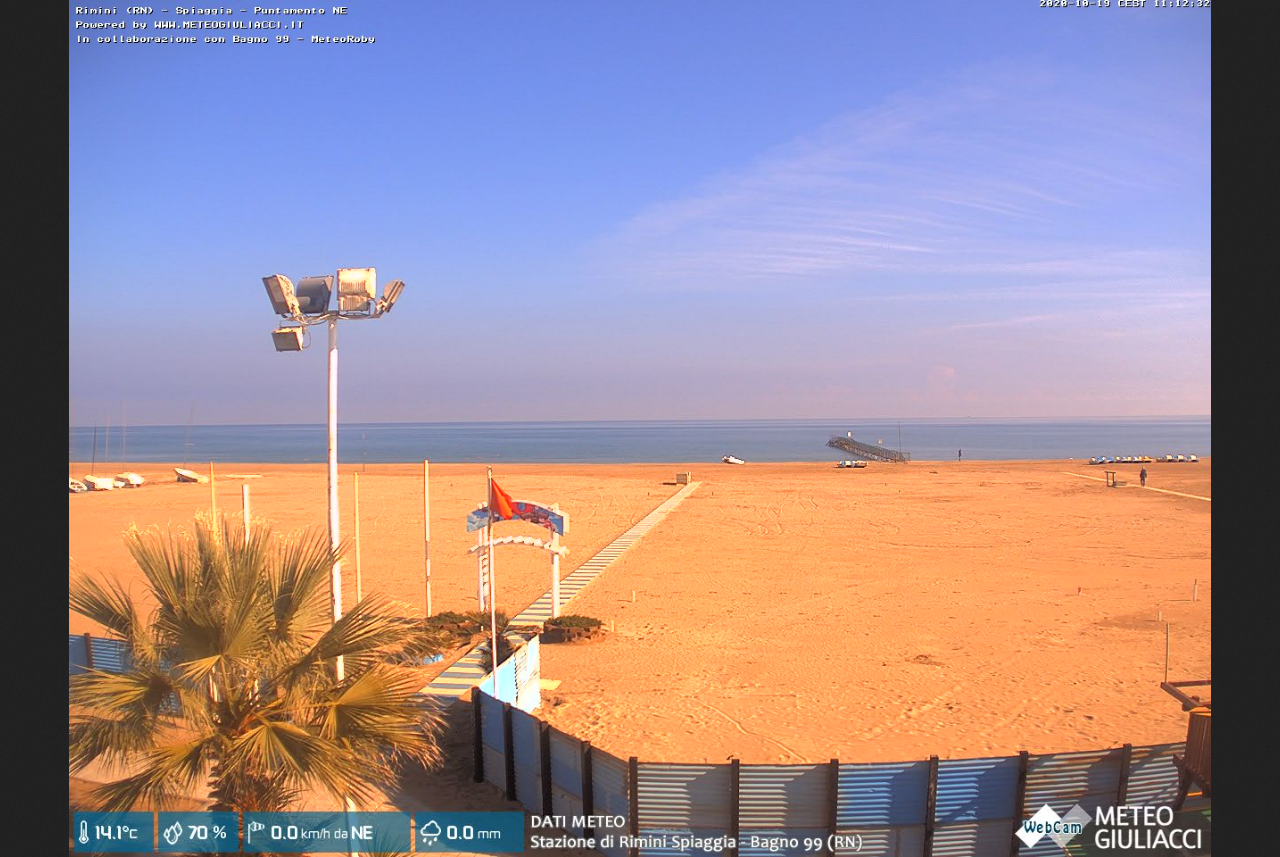maybe: (484, 476, 513, 520)
